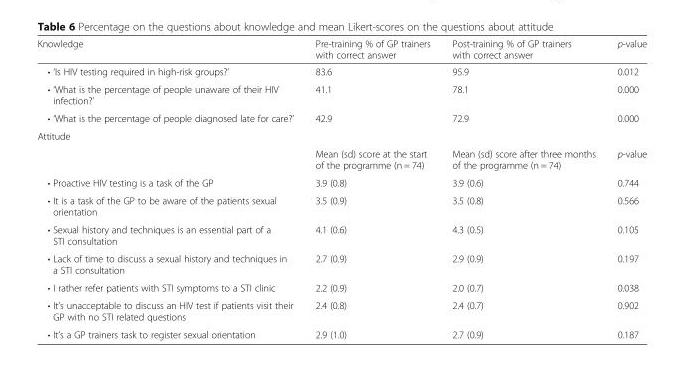table: (36, 37, 646, 339)
table column: (36, 37, 303, 339), (440, 37, 605, 339), (303, 37, 440, 339), (605, 37, 646, 339)
table column header: (36, 37, 646, 62)
table projected row header: (36, 126, 646, 144)
table row: (36, 79, 646, 109), (36, 144, 646, 173), (36, 191, 646, 220), (36, 220, 646, 249), (36, 249, 646, 278), (36, 296, 646, 325), (36, 37, 646, 62), (36, 126, 646, 144), (36, 173, 646, 191), (36, 278, 646, 296), (36, 62, 646, 79), (36, 109, 646, 126), (36, 325, 646, 339)
